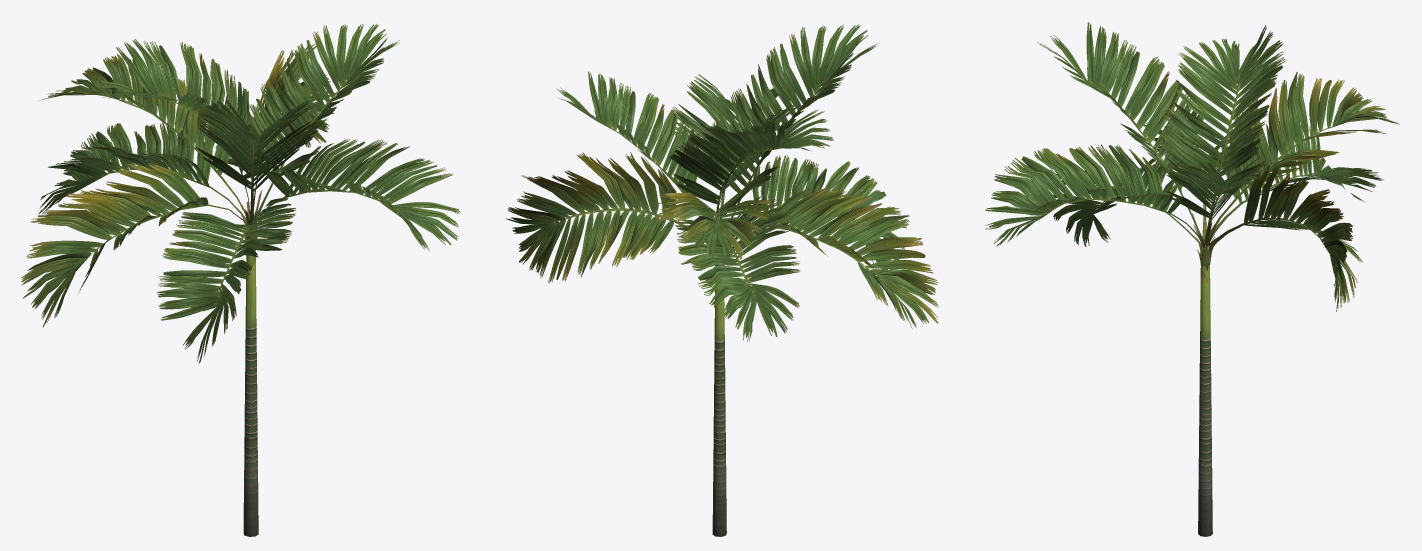
The model's file is MK4_ArecaPalm3.DAE.
3 views of the same model, side by side, from view 1: azimuth 30°, elevation 25°; view 2: azimuth 150°, elevation 25°; view 3: azimuth 270°, elevation 25° (orthographic). The views are drawn at different scales.
Parts seen in each view (by area): view 1: MK4_ArecaPalm3; view 2: MK4_ArecaPalm3; view 3: MK4_ArecaPalm3.
Boxes of the visible parts, box(x1,y1,x2,y2) form: MK4_ArecaPalm3: box(21, 24, 460, 536); MK4_ArecaPalm3: box(506, 24, 938, 536); MK4_ArecaPalm3: box(985, 22, 1398, 536).
Size of what is drawn, in the model's own units: 9.15 by 9.31 by 11.38.
